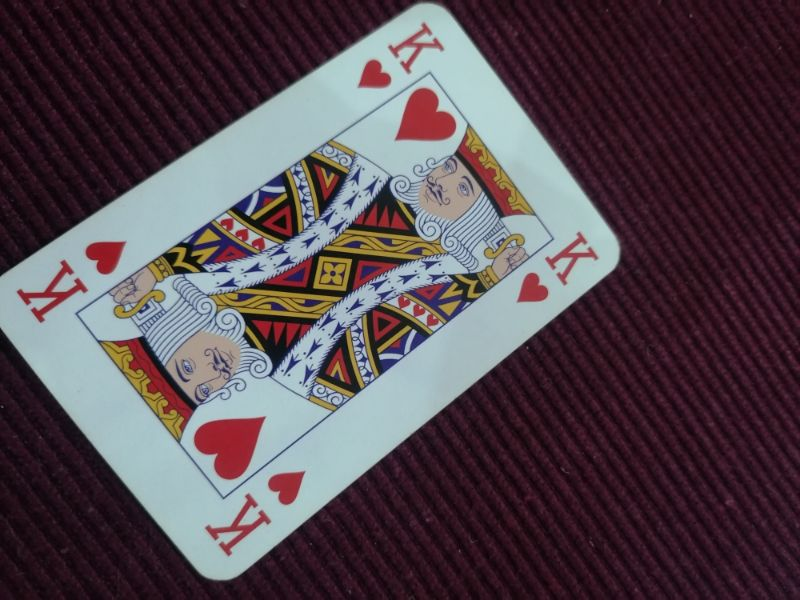Kh: (14, 233, 134, 327), (201, 463, 312, 561), (353, 18, 449, 95), (514, 227, 605, 308)
